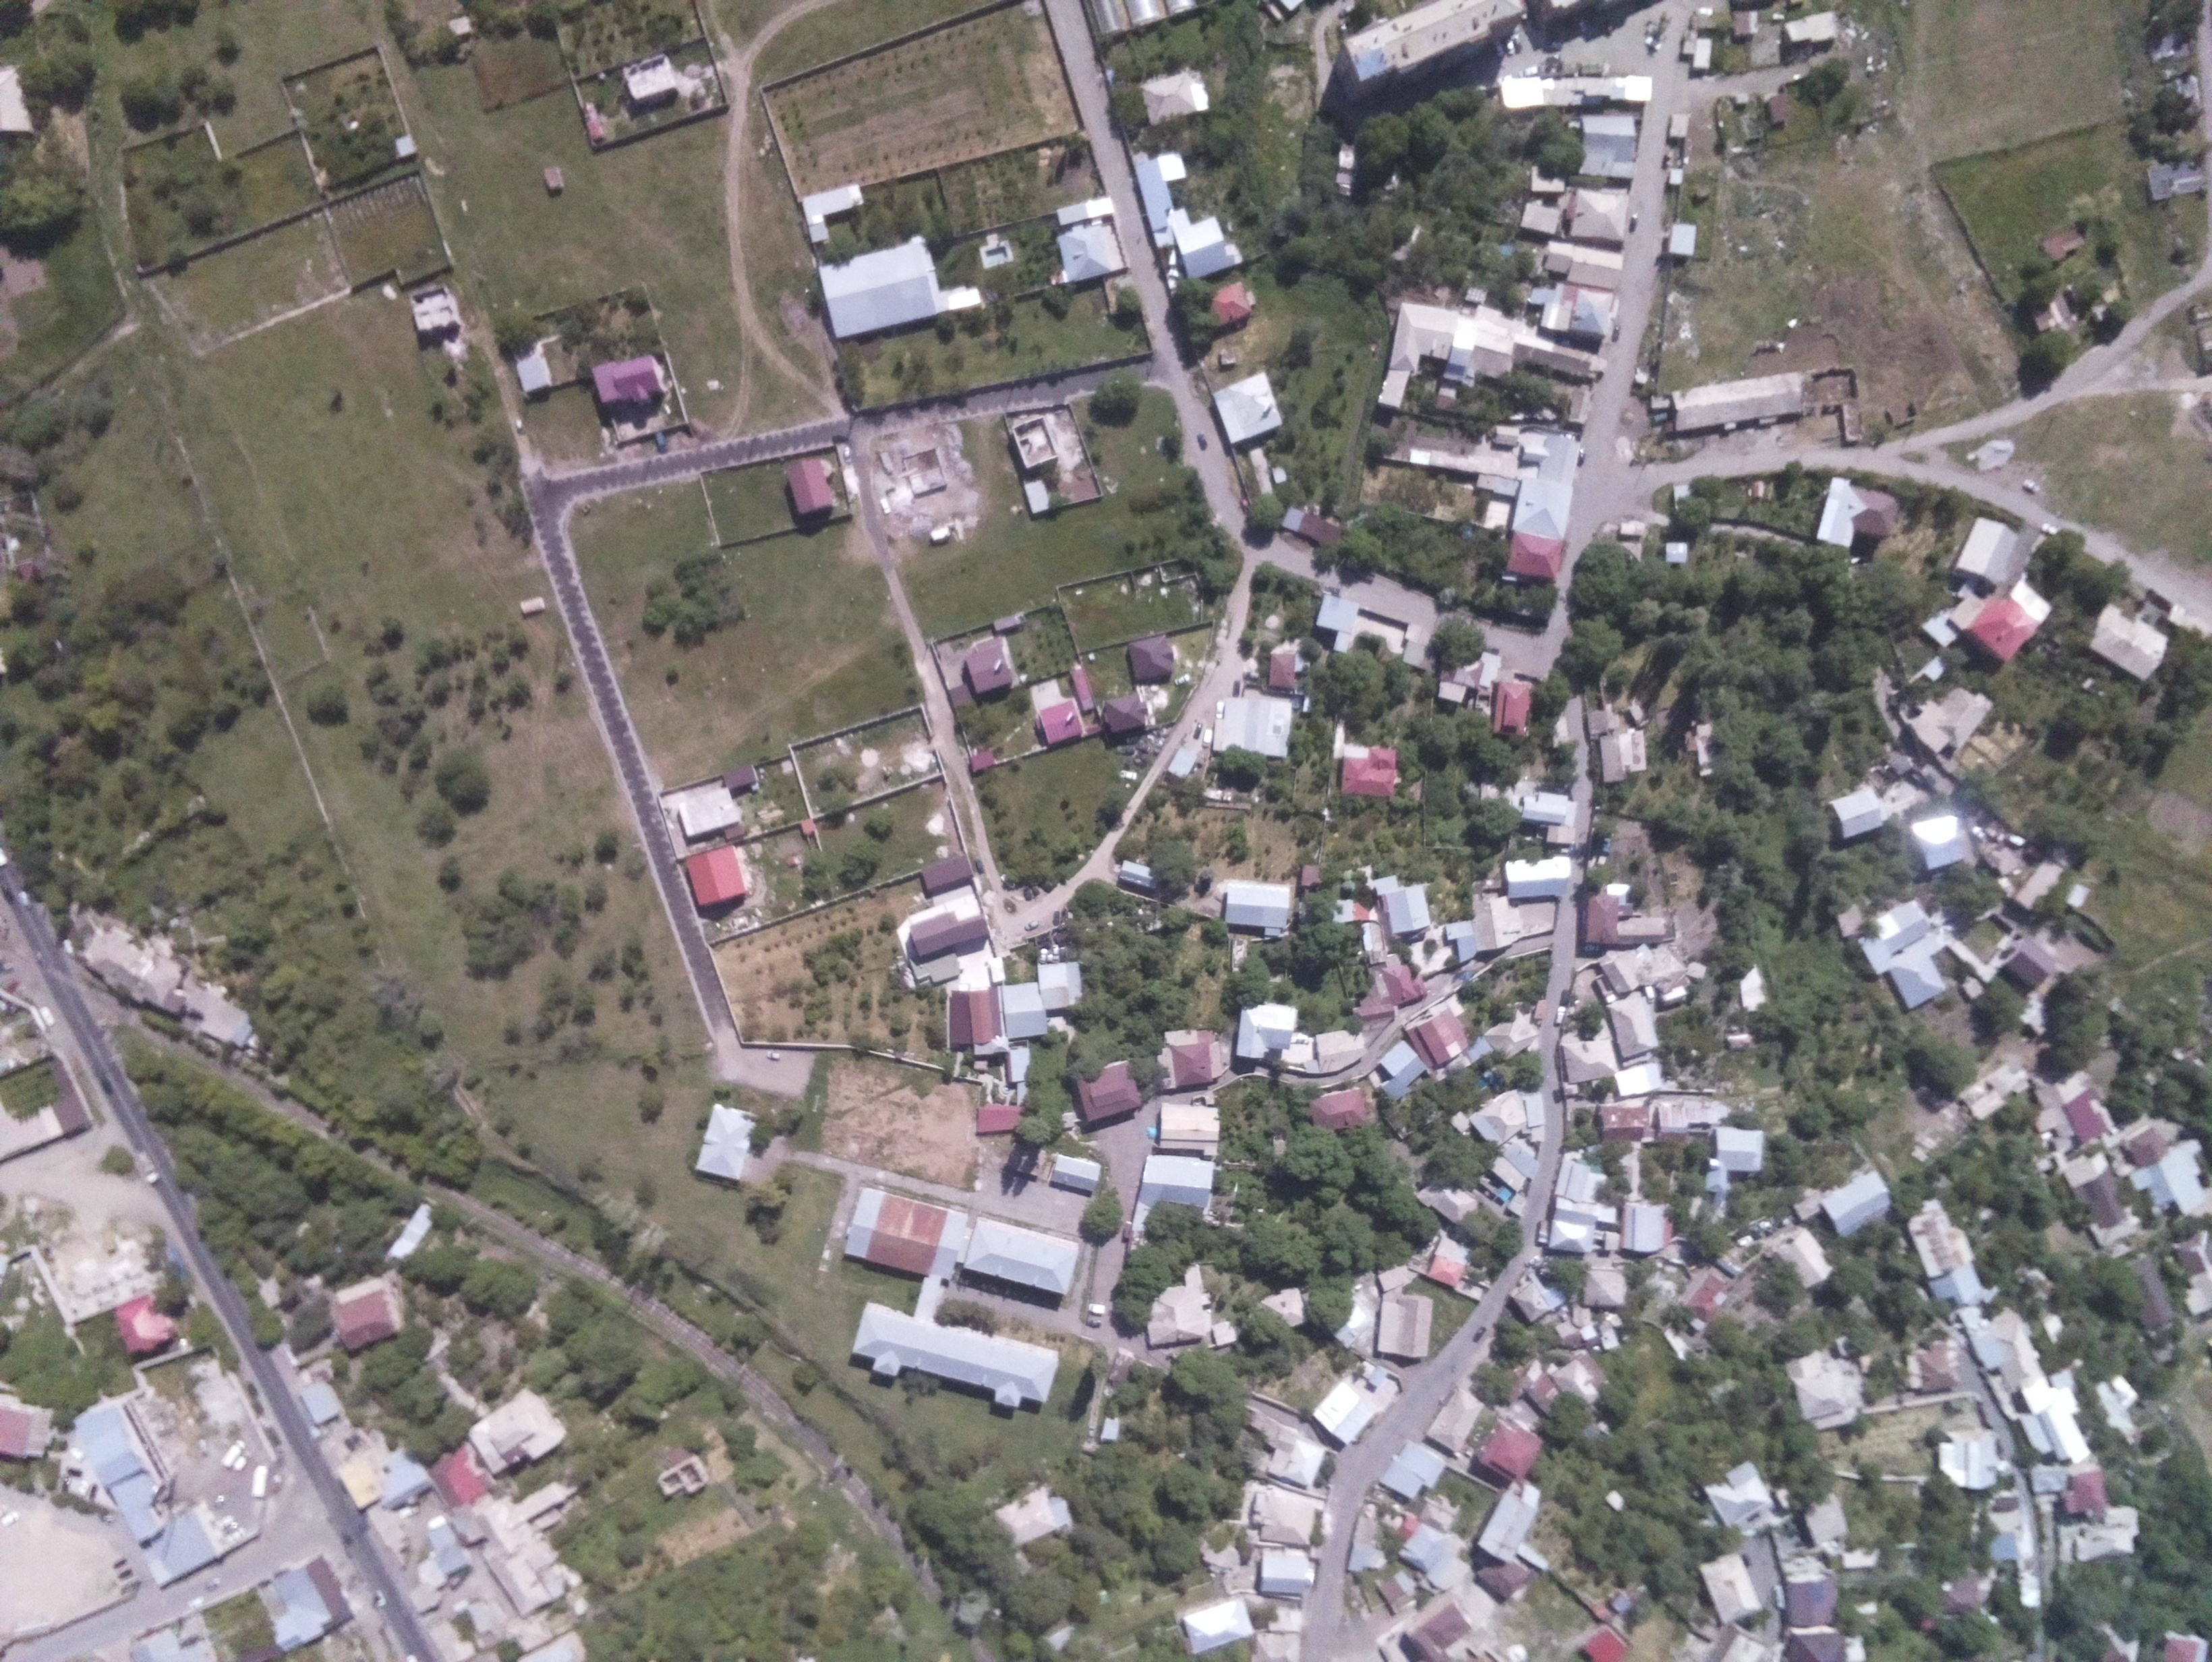car: (218, 1435, 248, 1472), (1515, 63, 1545, 80), (1622, 211, 1641, 236), (1575, 443, 1590, 473), (1550, 1004, 1568, 1030), (1023, 915, 1044, 936), (1501, 38, 1522, 59), (1082, 1301, 1109, 1316), (1468, 1323, 1487, 1344), (1198, 726, 1217, 747), (1171, 669, 1194, 686), (842, 442, 857, 466), (878, 494, 894, 519), (1082, 1315, 1107, 1330), (1641, 983, 1657, 1007), (1212, 697, 1227, 721), (765, 1046, 786, 1063), (1521, 1253, 1542, 1271), (1117, 766, 1138, 784), (2039, 520, 2060, 538), (1194, 429, 1210, 452), (512, 415, 527, 436), (1049, 941, 1063, 964), (1191, 718, 1205, 740), (1493, 40, 1508, 59), (1610, 321, 1622, 346), (1035, 944, 1049, 964)
truck: (136, 1149, 162, 1187), (1592, 972, 1617, 1002), (1533, 1217, 1552, 1246)
